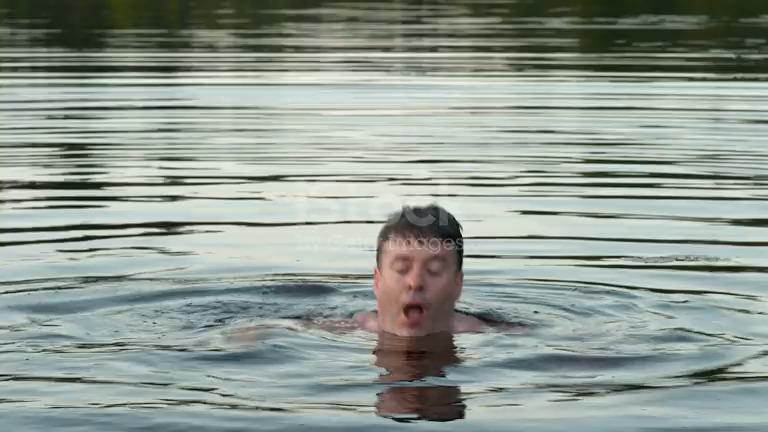Drowning: (132, 59, 571, 375)
